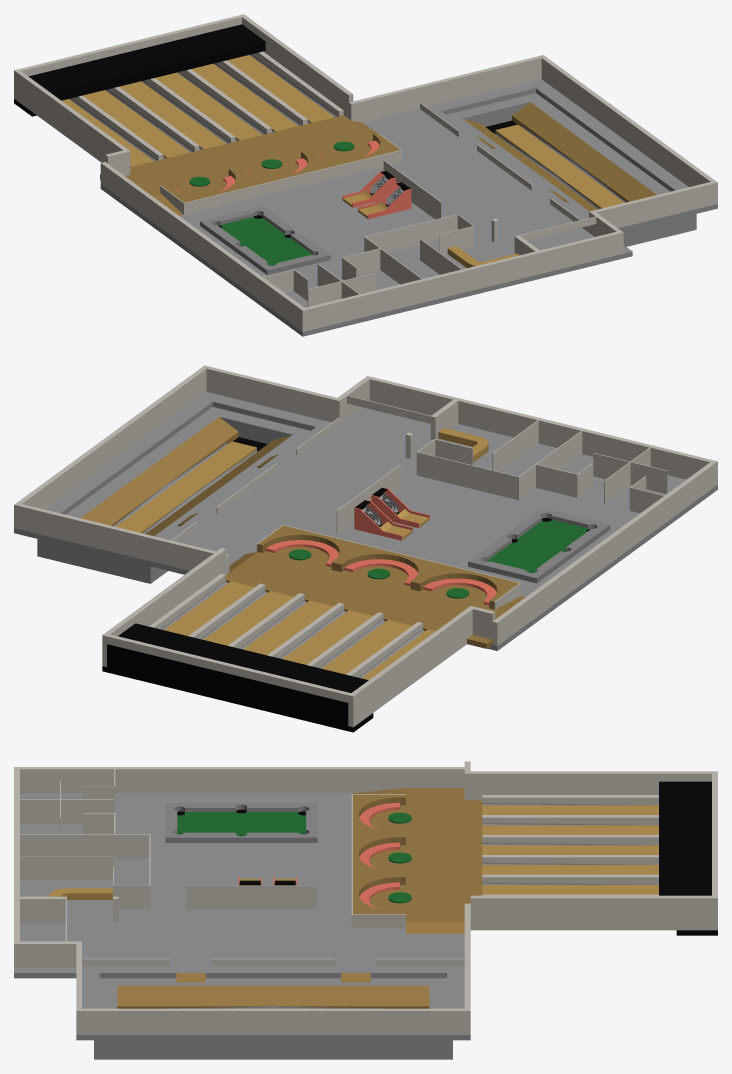
The picture shows the model from 3 angles, top to bottom: view 1: azimuth 30°, elevation 25°; view 2: azimuth 150°, elevation 25°; view 3: azimuth 270°, elevation 25°; orthographic projection. The views are drawn at different scales.
Visible parts, largest first — view 1: bounding_box.000, bounding_box.001, bounding_box.011, bounding_box.048, concave.000, bounding_box.002, bounding_box.005, concave.001, bounding_box.008, convex.010, bounding_box.014, MESH_ONLY (+32 smaller); view 2: bounding_box.000, bounding_box.011, bounding_box.001, concave.000, bounding_box.002, bounding_box.003, concave.001, bounding_box.008, bounding_box.005, bounding_box.014, convex.010, bounding_box.048 (+41 smaller); view 3: bounding_box.000, bounding_box.002, bounding_box.008, concave.000, bounding_box.011, bounding_box.010, convex.009, bounding_box.048, bounding_box.014, concave.001, concave.002, bounding_box.028 (+32 smaller).
Part boxes in pixels (bbox=[...]): bounding_box.000: bbox=[100, 105, 632, 336]; bounding_box.001: bbox=[305, 231, 619, 330]; bounding_box.011: bbox=[100, 115, 372, 195]; bounding_box.048: bbox=[28, 24, 265, 100]; concave.000: bbox=[446, 93, 696, 246]; bounding_box.002: bbox=[100, 162, 307, 331]; bounding_box.005: bbox=[349, 56, 541, 122]; concave.001: bbox=[434, 79, 717, 231]; bounding_box.008: bbox=[539, 55, 717, 204]; convex.010: bbox=[512, 102, 656, 201]; bounding_box.014: bbox=[14, 69, 127, 162]; MESH_ONLY: bbox=[160, 132, 402, 214]; bounding_box.000: bbox=[137, 407, 717, 650]; bounding_box.011: bbox=[225, 552, 506, 648]; bounding_box.001: bbox=[369, 377, 712, 479]; concave.000: bbox=[37, 407, 310, 583]; bounding_box.002: bbox=[492, 460, 717, 645]; bounding_box.003: bbox=[107, 644, 348, 725]; concave.001: bbox=[14, 392, 324, 562]; bounding_box.008: bbox=[14, 365, 208, 528]; bounding_box.005: bbox=[19, 504, 229, 574]; bounding_box.014: bbox=[348, 608, 472, 727]; convex.010: bbox=[81, 417, 238, 525]; bounding_box.048: bbox=[118, 623, 368, 692]; bounding_box.000: bbox=[14, 793, 464, 978]; bounding_box.002: bbox=[14, 767, 464, 793]; bounding_box.008: bbox=[76, 1008, 470, 1034]; concave.000: bbox=[94, 978, 452, 1059]; bounding_box.011: bbox=[403, 788, 482, 922]; bounding_box.010: bbox=[470, 895, 717, 930]; convex.009: bbox=[117, 985, 429, 1008]; bounding_box.048: bbox=[659, 781, 711, 895]; bounding_box.014: bbox=[470, 771, 717, 800]; concave.001: bbox=[76, 973, 470, 1040]; concave.002: bbox=[165, 803, 317, 842]; bounding_box.028: bbox=[186, 885, 316, 909].
Size of the model in its own units: 98.15 by 12 by 120.
